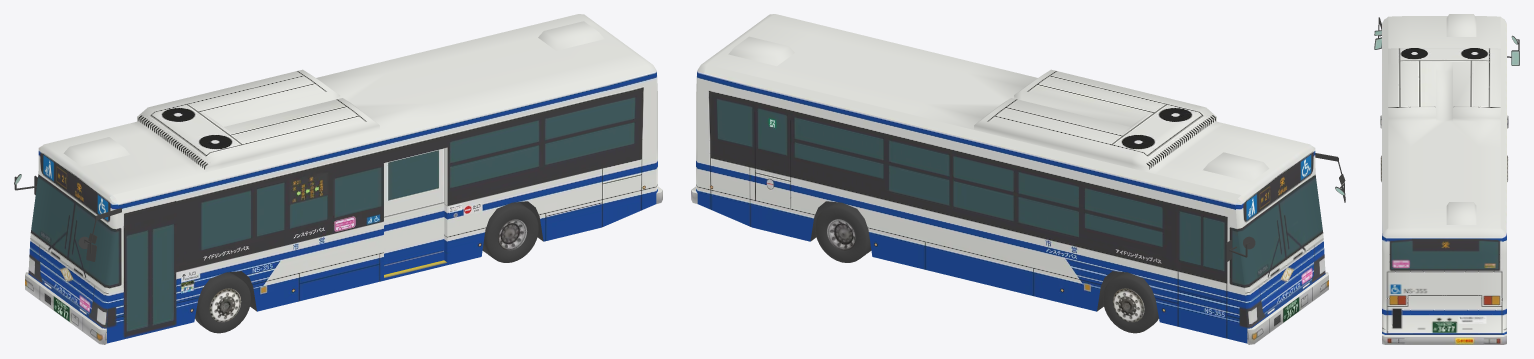
File: city-bus.glb
3 views of the same model, side by side, from view 1: azimuth 30°, elevation 25°; view 2: azimuth 150°, elevation 25°; view 3: azimuth 270°, elevation 25° (orthographic). The views are drawn at different scales.
Visible parts, largest first — view 1: Cube.004; view 2: Cube.004; view 3: Cube.004.
Part boxes in pixels (x1=…): Cube.004: x1=14, y1=14, x2=662, y2=344; Cube.004: x1=691, y1=14, x2=1345, y2=344; Cube.004: x1=1374, y1=14, x2=1519, y2=344.
Bounding box in the file's own units: 10.88 × 3.11 × 2.9.
Materials: 1 (1 with a texture image).
